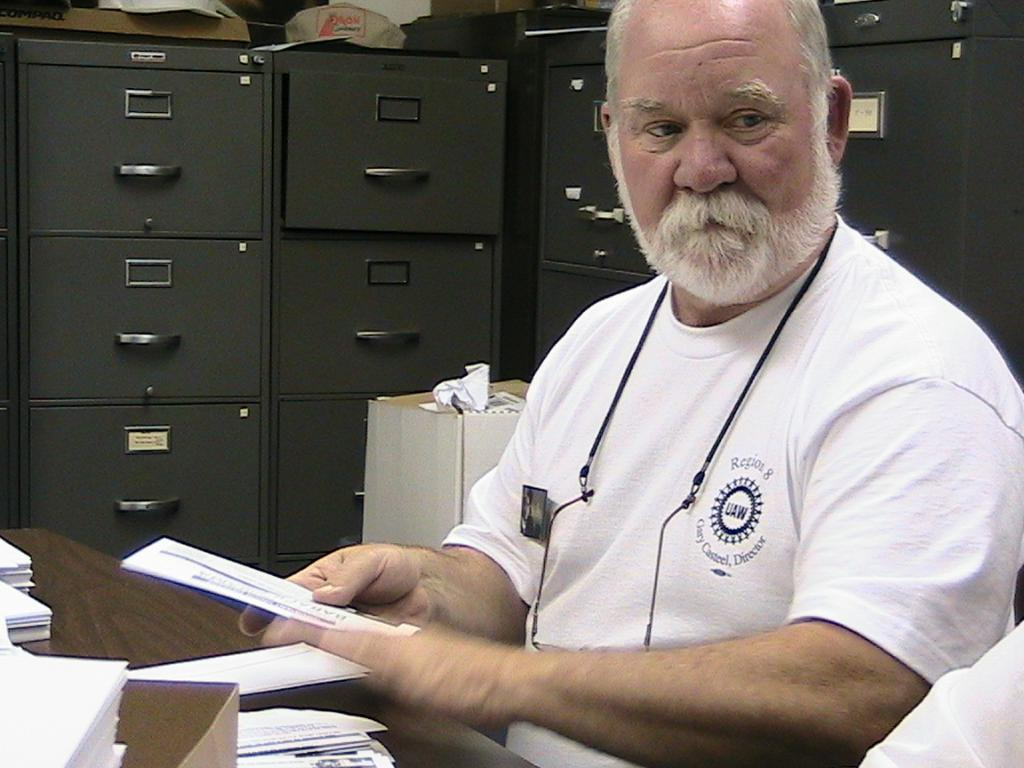cabinet door: (34, 62, 259, 226), (35, 242, 262, 398), (296, 78, 510, 226), (286, 239, 492, 391), (37, 405, 255, 546)
handle: (110, 146, 191, 188), (111, 315, 181, 357), (111, 493, 184, 527), (354, 324, 422, 355), (367, 158, 429, 191), (574, 198, 623, 231)
